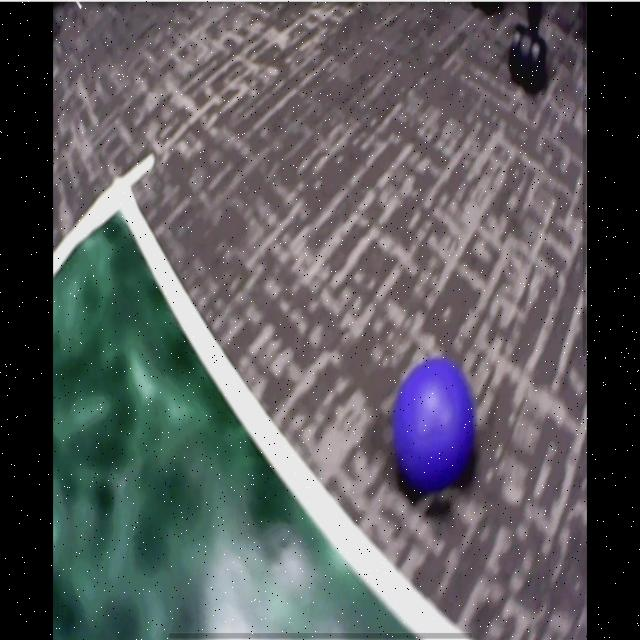ball: (392, 358, 478, 490)
